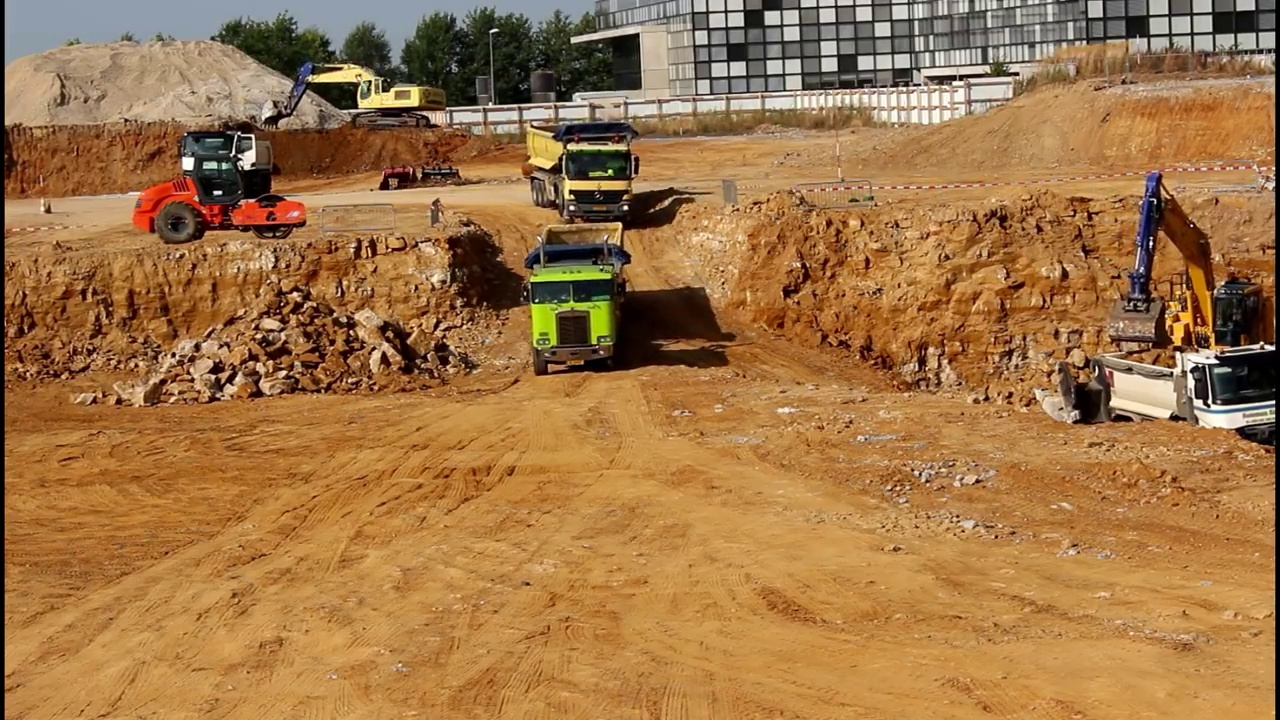compactor: (131, 154, 309, 247)
excavator: (1103, 167, 1280, 415), (260, 57, 450, 134)
truck: (1099, 334, 1280, 464), (520, 214, 636, 379), (523, 116, 646, 226)
